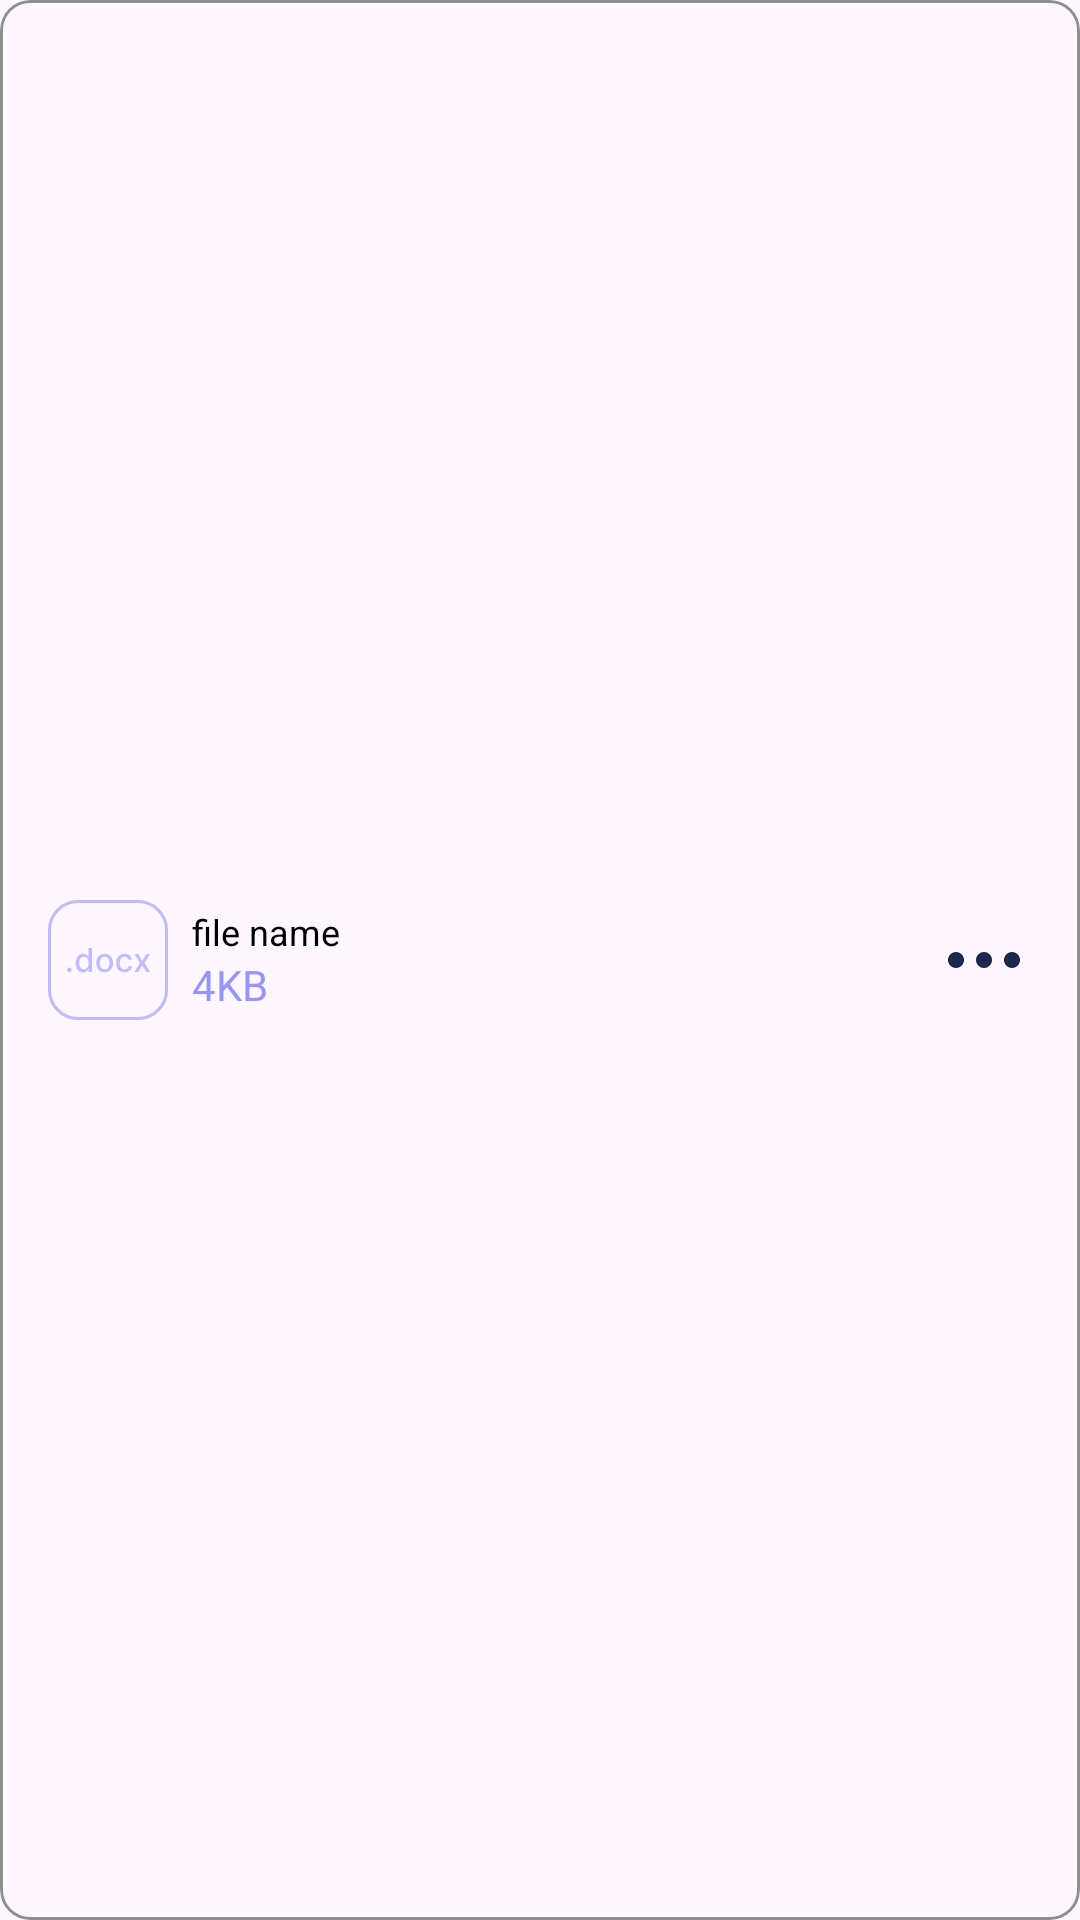

Icon bounding boxes for this 1080px x 1920px phone screenshot, format (x1, y1, x2, y2):
dots: (948, 952, 1020, 968)
